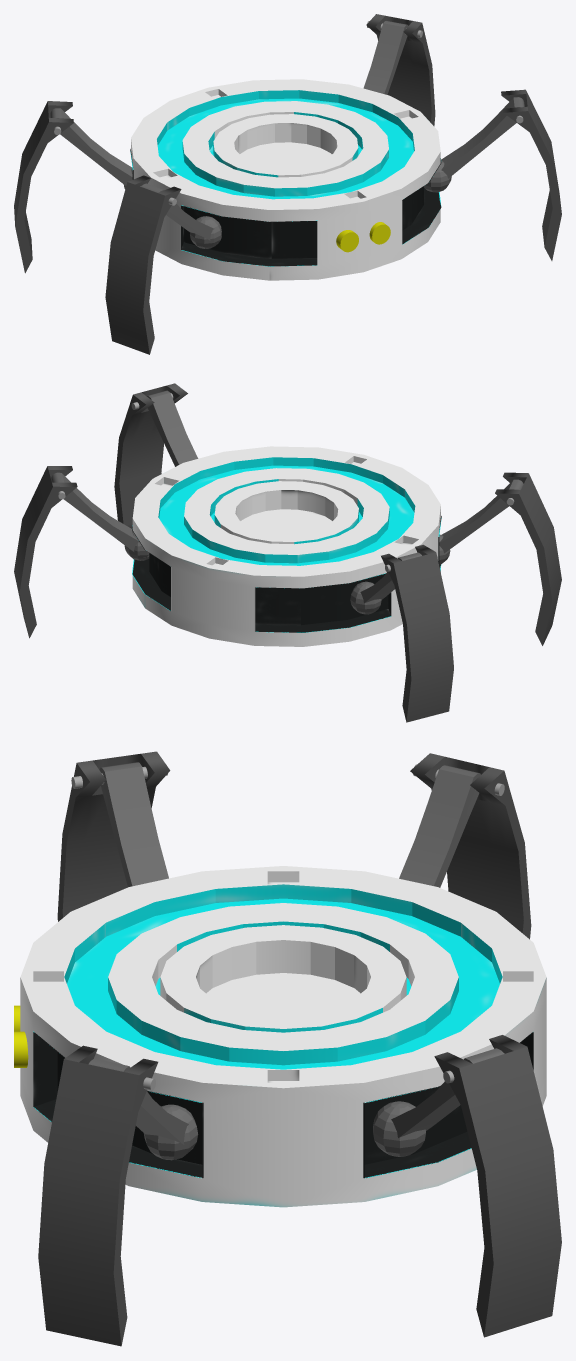
Rendered from psycho-pass.fbx.
3 views of the same model, one above another, from view 1: azimuth 30°, elevation 25°; view 2: azimuth 150°, elevation 25°; view 3: azimuth 270°, elevation 25° (orthographic). The views are drawn at different scales.
Parts seen in each view (by area): view 1: polySurface5, polySurface13, polySurface17, polySurface21, polySurface9, polySurface19, polySurface11, polySurface23, polySurface15, polySurface16, polySurface12; view 2: polySurface5, polySurface21, polySurface9, polySurface13, polySurface17, polySurface11, polySurface19, polySurface15, polySurface23, polySurface24; view 3: polySurface5, polySurface9, polySurface17, polySurface21, polySurface13, polySurface15, polySurface23, polySurface19, polySurface20, polySurface11, polySurface12.
Part boxes in pixels (<box>): polySurface5: <box>130,79,441,280</box>; polySurface13: <box>105,175,181,354</box>; polySurface17: <box>366,14,435,126</box>; polySurface21: <box>14,101,73,273</box>; polySurface9: <box>501,89,561,260</box>; polySurface19: <box>363,21,408,94</box>; polySurface11: <box>441,97,524,178</box>; polySurface23: <box>50,108,132,185</box>; polySurface15: <box>141,183,221,241</box>; polySurface16: <box>190,216,221,248</box>; polySurface12: <box>424,161,451,192</box>; polySurface5: <box>132,446,441,646</box>; polySurface21: <box>381,544,453,722</box>; polySurface9: <box>114,383,187,528</box>; polySurface13: <box>495,472,561,645</box>; polySurface17: <box>14,466,77,638</box>; polySurface11: <box>146,390,198,466</box>; polySurface19: <box>51,472,149,557</box>; polySurface15: <box>439,479,523,553</box>; polySurface23: <box>360,552,421,603</box>; polySurface24: <box>350,581,381,614</box>; polySurface5: <box>20,866,546,1207</box>; polySurface9: <box>38,1045,158,1346</box>; polySurface17: <box>434,1035,561,1337</box>; polySurface21: <box>410,753,531,939</box>; polySurface13: <box>57,751,170,921</box>; polySurface15: <box>99,762,168,887</box>; polySurface23: <box>399,765,480,887</box>; polySurface19: <box>391,1048,504,1138</box>; polySurface20: <box>373,1101,425,1156</box>; polySurface11: <box>88,1058,192,1148</box>; polySurface12: <box>143,1104,198,1160</box>.
Size of the model in its own units: 3.31 by 1.07 by 2.08.
